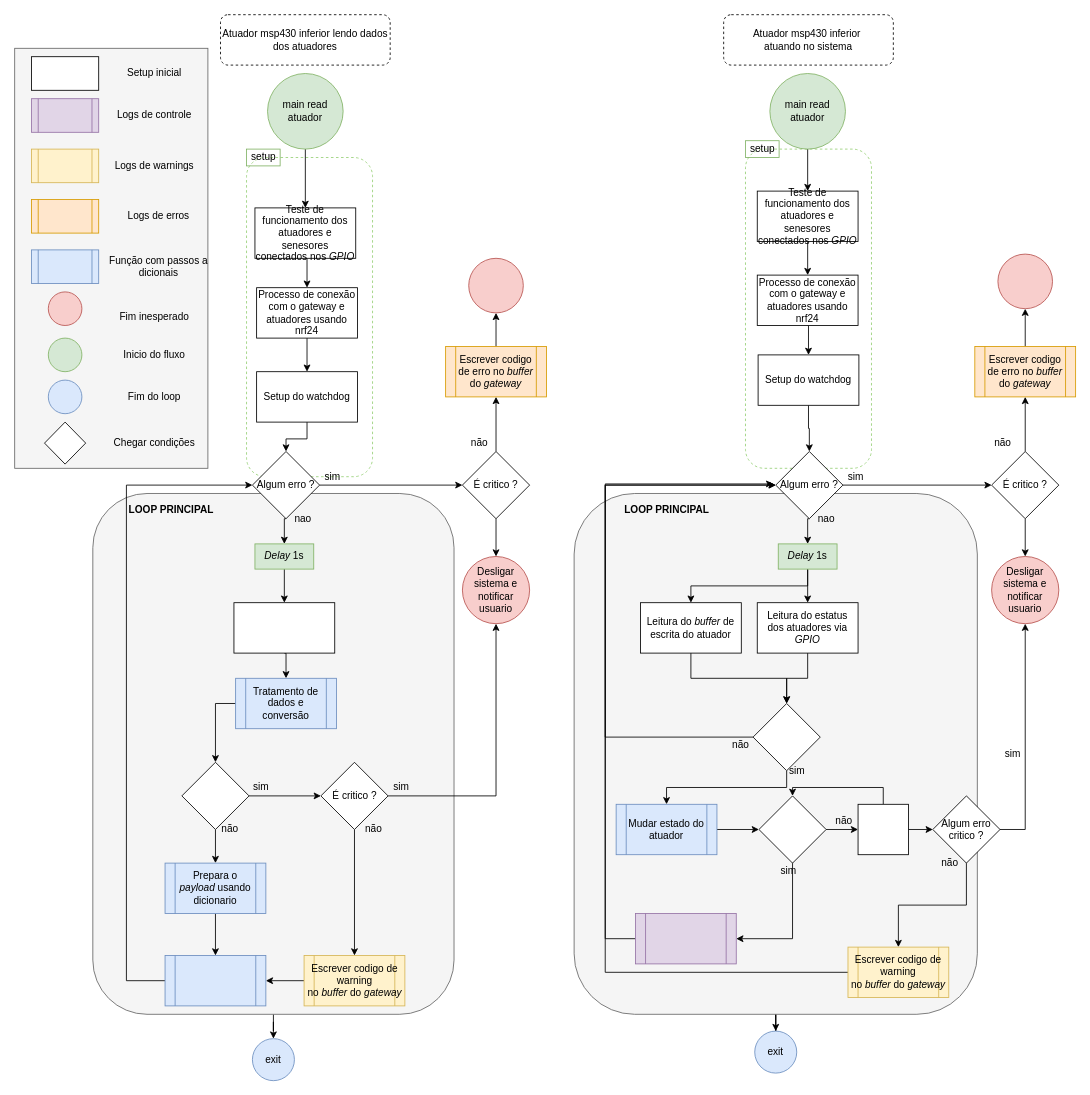
The diagram is 1090 pixels wide and 1095 high, and some of its shapes have lost their labels. Here are the shapes that lost their labels. From the top down, the box of each, then its label:
(233, 602, 335, 653): Leitura do estado dos atuadores via GPIO
(752, 703, 820, 771): Precisa atuar no sistema ?
(181, 761, 249, 830): Algo fora do comum ?
(758, 795, 826, 863): Estado mudou ?
(857, 803, 908, 855): retry 3x
(635, 913, 736, 964): retornar mudança no buffer do gateway
(164, 955, 266, 1006): Publicar dados no buffer do gateway
